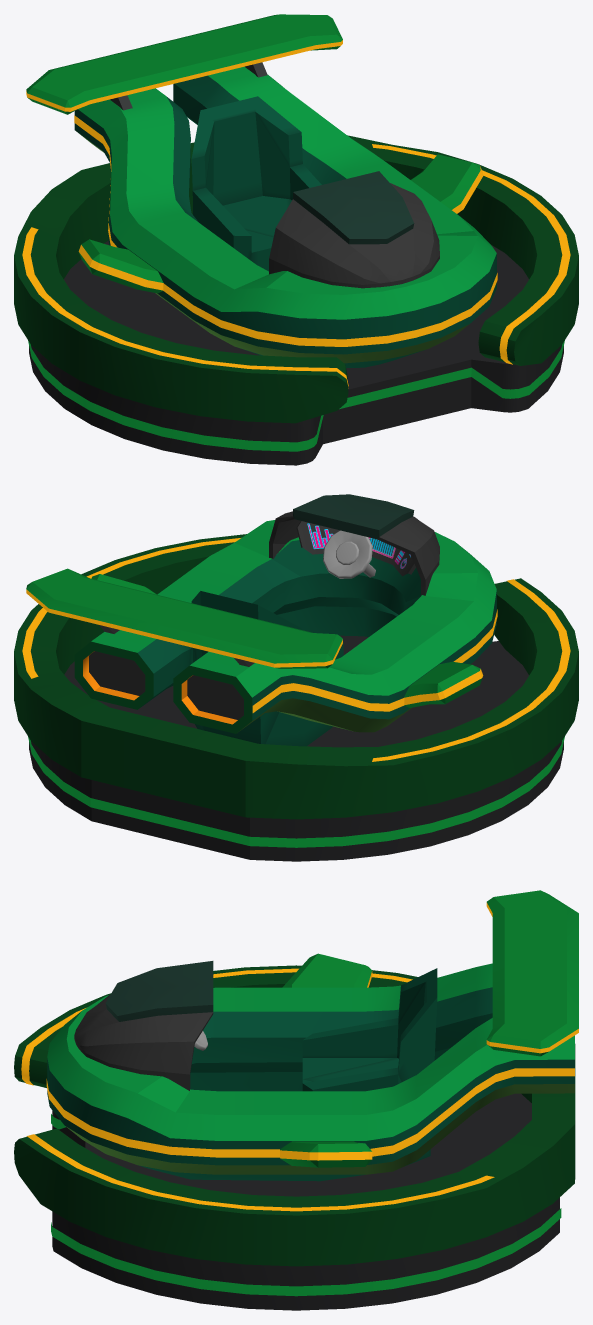
Rendered from vehicle.speedster.02.gltf.
3 views of the same model, one above another, from view 1: azimuth 30°, elevation 25°; view 2: azimuth 150°, elevation 25°; view 3: azimuth 270°, elevation 25° (orthographic). The views are drawn at different scales.
Visible parts, largest first — view 1: speester.02.base, speester.02.body, speester.02.hood, speester.02.seat, speester.02.aerofoil, speester.02.neons.003, speester.02.wings, speester.02.neons.002, speester.02.neons.001; view 2: speester.02.base, speester.02.body, speester.02.aerofoil, speester.02.hood, speester.02.neons.003, speester.02.seat, speester.02.neons.002, speester.02.wings, speester.02.steering, speester.02.display, speester.02.neons.001; view 3: speester.02.base, speester.02.body, speester.02.aerofoil, speester.02.hood, speester.02.seat, speester.02.neons.003, speester.02.wings, speester.02.neons.001, speester.02.neons.002.
Boxes of the visible parts, bbox=[...] form: speester.02.base: bbox=[14, 135, 578, 465]; speester.02.body: bbox=[74, 66, 496, 368]; speester.02.hood: bbox=[269, 171, 439, 288]; speester.02.seat: bbox=[191, 96, 321, 271]; speester.02.aerofoil: bbox=[26, 14, 342, 114]; speester.02.neons.003: bbox=[28, 340, 564, 451]; speester.02.wings: bbox=[78, 154, 483, 293]; speester.02.neons.002: bbox=[22, 144, 570, 388]; speester.02.neons.001: bbox=[74, 115, 497, 346]; speester.02.base: bbox=[14, 534, 578, 861]; speester.02.body: bbox=[74, 520, 496, 733]; speester.02.aerofoil: bbox=[26, 568, 342, 668]; speester.02.hood: bbox=[269, 494, 439, 595]; speester.02.neons.003: bbox=[28, 736, 564, 847]; speester.02.seat: bbox=[191, 591, 343, 746]; speester.02.neons.002: bbox=[22, 538, 570, 761]; speester.02.wings: bbox=[91, 574, 483, 707]; speester.02.steering: bbox=[323, 530, 375, 578]; speester.02.display: bbox=[296, 521, 415, 576]; speester.02.neons.001: bbox=[252, 609, 497, 712]; speester.02.base: bbox=[14, 965, 575, 1310]; speester.02.body: bbox=[47, 963, 574, 1181]; speester.02.aerofoil: bbox=[486, 890, 578, 1056]; speester.02.hood: bbox=[74, 961, 213, 1090]; speester.02.seat: bbox=[302, 968, 437, 1165]; speester.02.neons.003: bbox=[51, 1114, 561, 1296]; speester.02.wings: bbox=[280, 953, 372, 1167]; speester.02.neons.001: bbox=[46, 1068, 574, 1157]; speester.02.neons.002: bbox=[21, 968, 494, 1211].
Size of what is drawn, in the model's own units: 2.11 by 0.8908 by 2.02.
Materials: 4 (4 with a texture image).
